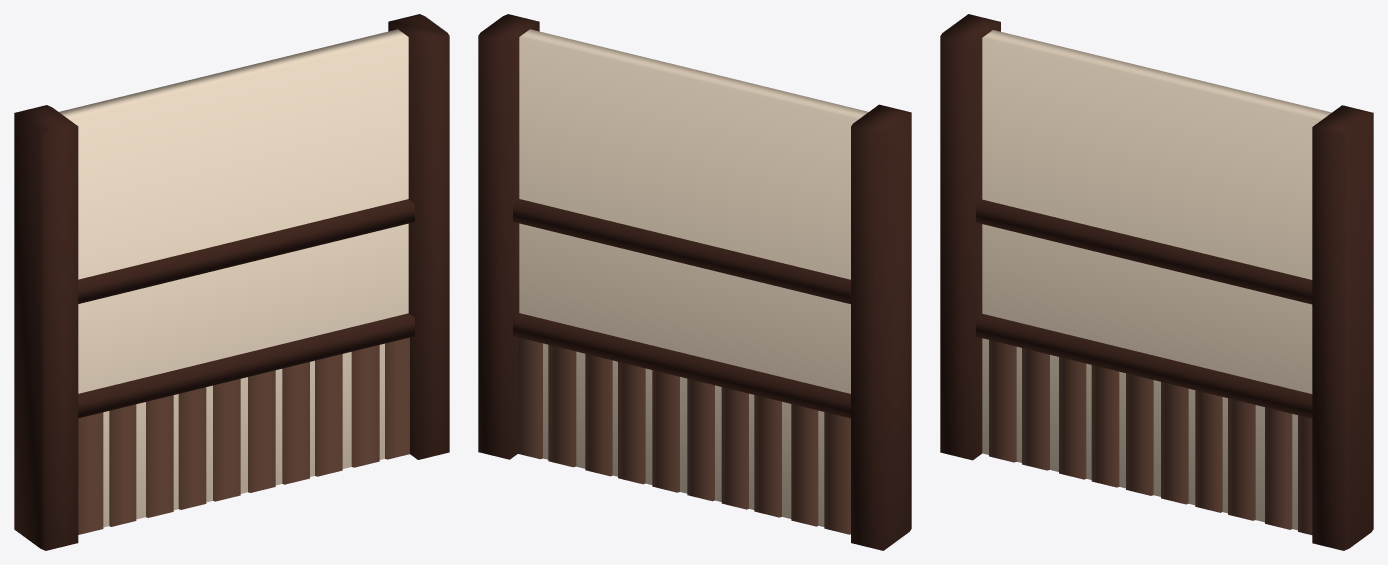
Rendered from BuildingWall_6_1  Asia.fbx.
The picture shows the model from 3 angles, left to right: view 1: azimuth 30°, elevation 25°; view 2: azimuth 150°, elevation 25°; view 3: azimuth 330°, elevation 25°; orthographic projection.
Visible parts, largest first — view 1: BuildingWall_6_1; view 2: BuildingWall_6_1; view 3: BuildingWall_6_1.
Boxes of the visible parts, x1,y1,x2,y2 form: BuildingWall_6_1: [14, 14, 449, 550]; BuildingWall_6_1: [478, 14, 911, 550]; BuildingWall_6_1: [940, 14, 1373, 550].
Size of the model in its own units: 200 by 196 by 25.4.
